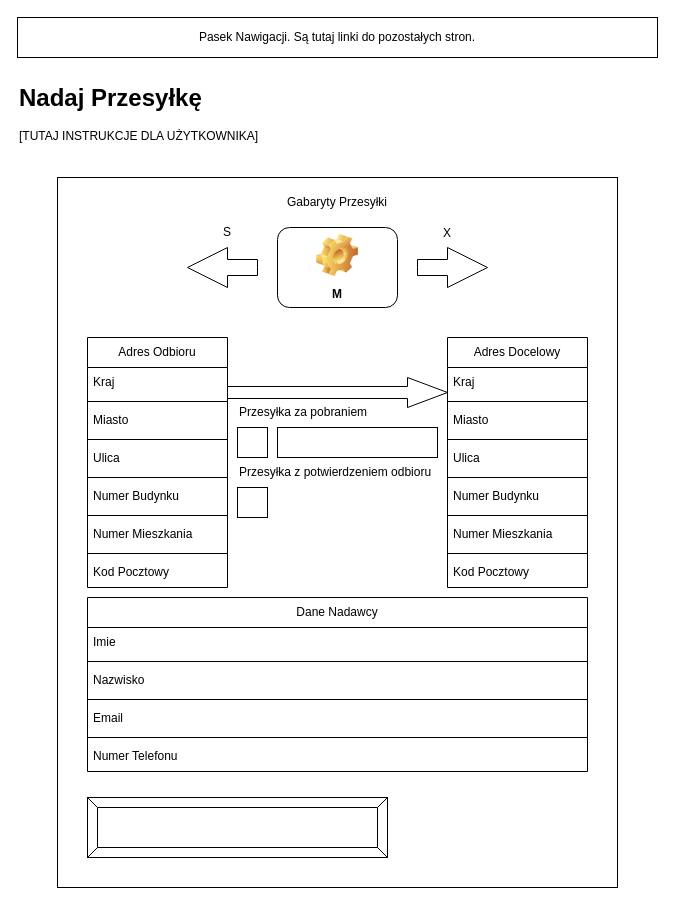
The diagram is 675 pixels wide and 905 high, and some of its shapes have lost their labels. The centre of each missing label's shape, as x and y in pixels:
"Kwota:" belongs at pixel 357 442.
"Przejdź do płatności" belongs at pixel 237 827.
